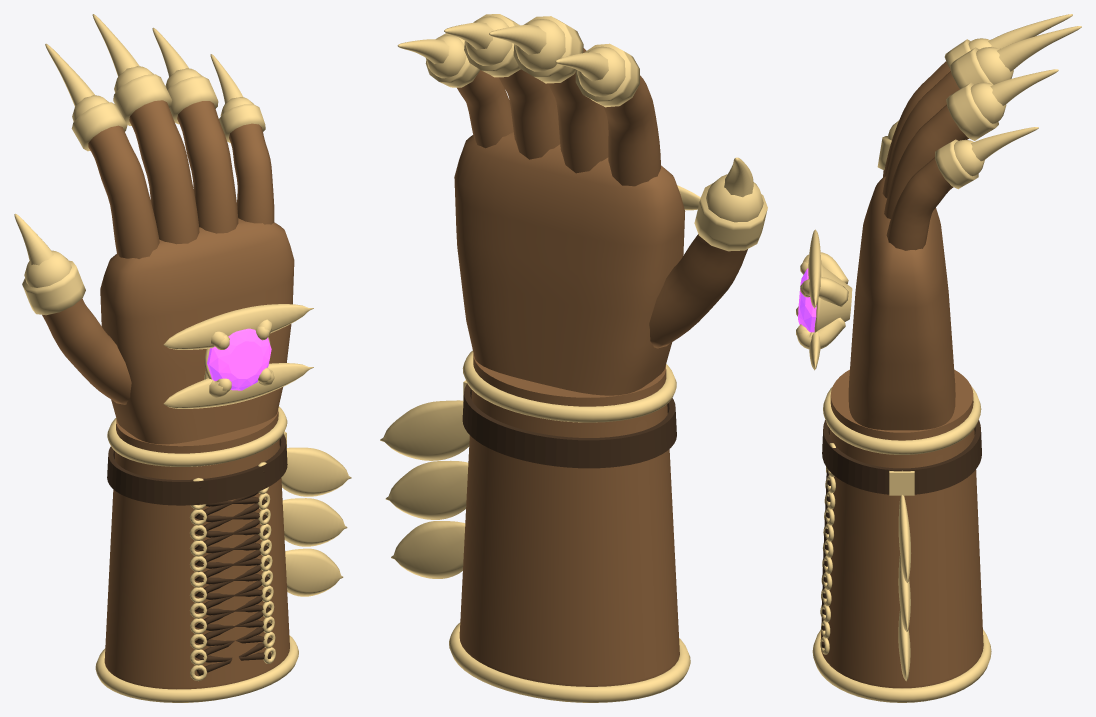
File: gloves_crit_epic.glb
The picture shows the model from 3 angles, left to right: view 1: azimuth 30°, elevation 25°; view 2: azimuth 150°, elevation 25°; view 3: azimuth 270°, elevation 25°; orthographic projection. The views are drawn at different scales.
Visible parts, largest first — view 1: gloves_crit_epic; view 2: gloves_crit_epic; view 3: gloves_crit_epic.
Boxes of the visible parts, left/top/right/bottom form: gloves_crit_epic: left=14, top=14, right=351, bottom=702; gloves_crit_epic: left=380, top=14, right=767, bottom=702; gloves_crit_epic: left=796, top=14, right=1081, bottom=702.
Bounding box in the file's own units: 1.76 × 3.09 × 1.28.
